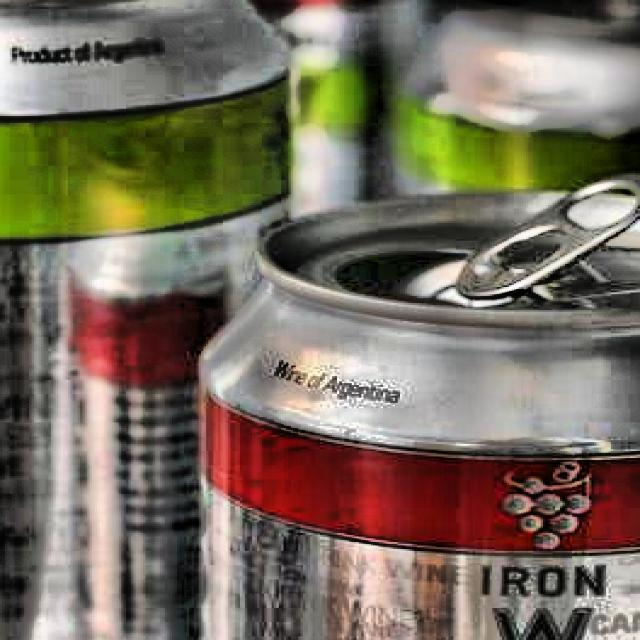metal: (177, 167, 640, 640), (0, 0, 305, 640), (397, 0, 640, 508), (0, 0, 446, 255)
